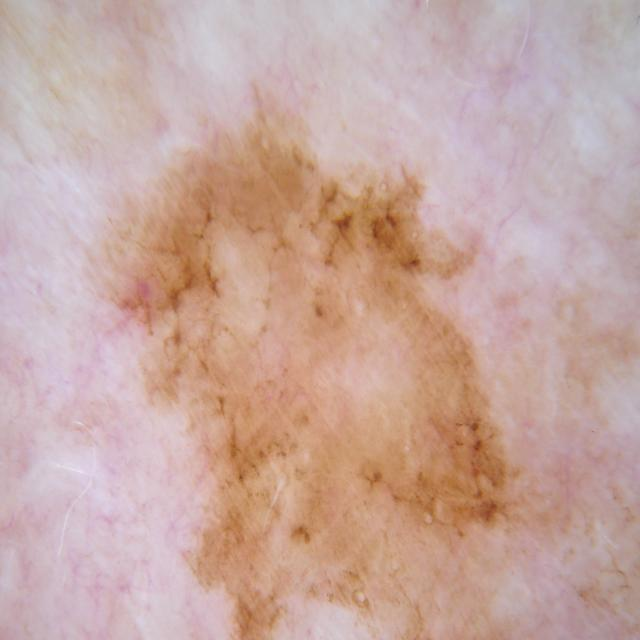Melanoma: (125, 101, 537, 640)
